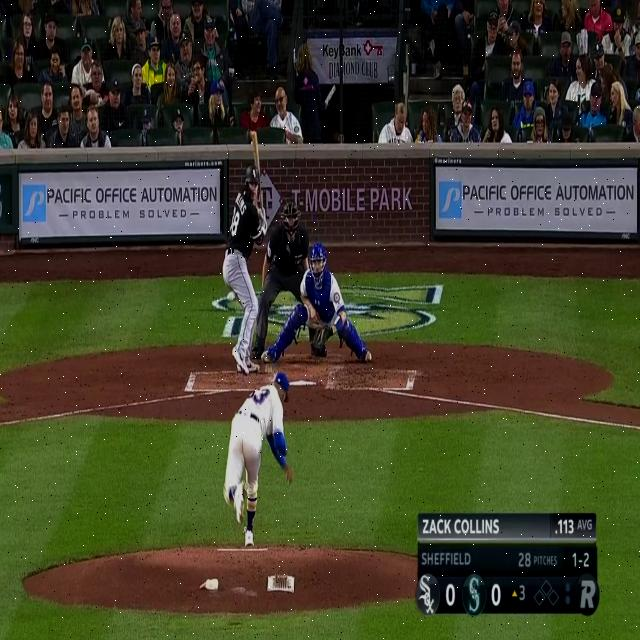baseball: (226, 290, 235, 303)
